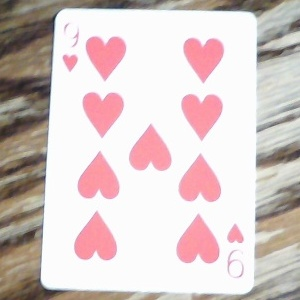card: (38, 5, 261, 295)
